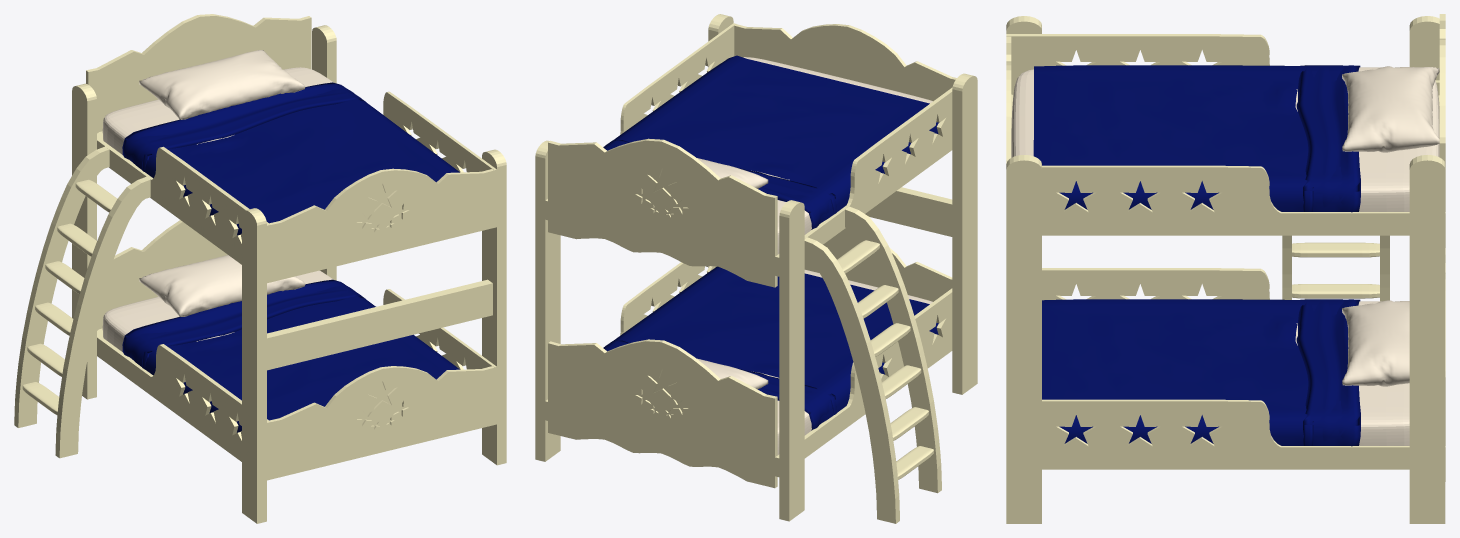
File: Child_Bed.fbx
3 views of the same model, side by side, from view 1: azimuth 30°, elevation 25°; view 2: azimuth 150°, elevation 25°; view 3: azimuth 270°, elevation 25° (orthographic). The views are drawn at different scales.
Parts seen in each view (by area): view 1: Bed.001; view 2: Bed.001; view 3: Bed.001.
Boxes of the visible parts, x1,y1,x2,y2 form: Bed.001: [14, 14, 506, 523]; Bed.001: [535, 14, 977, 523]; Bed.001: [1006, 14, 1445, 523].
Size of the model in its own units: 22.31 by 22.09 by 21.62.
